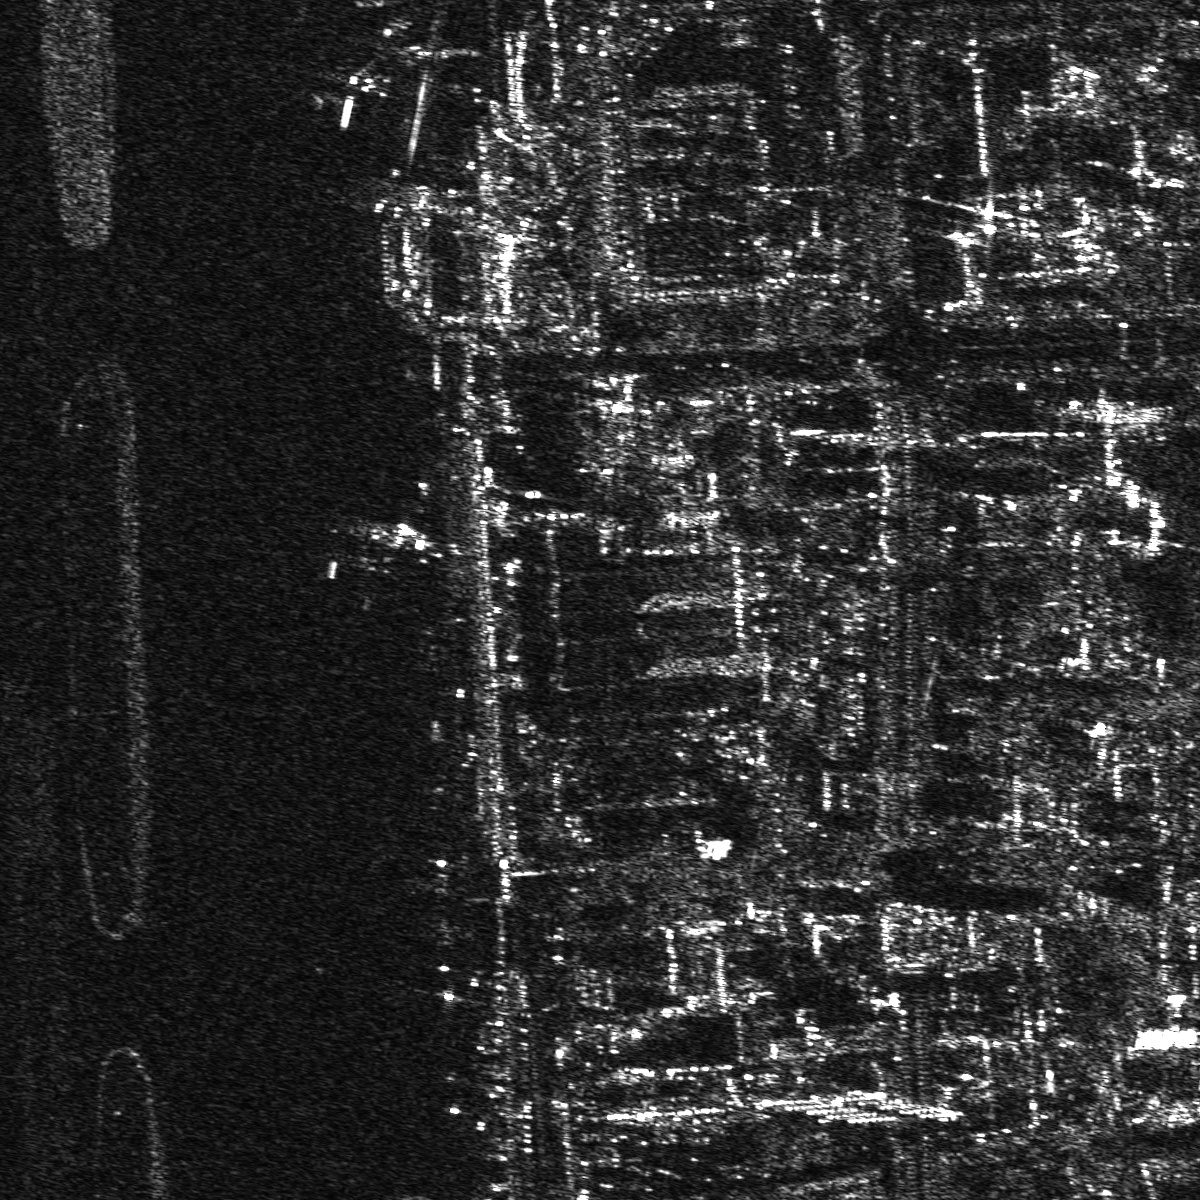A220: (316, 512, 456, 582)
